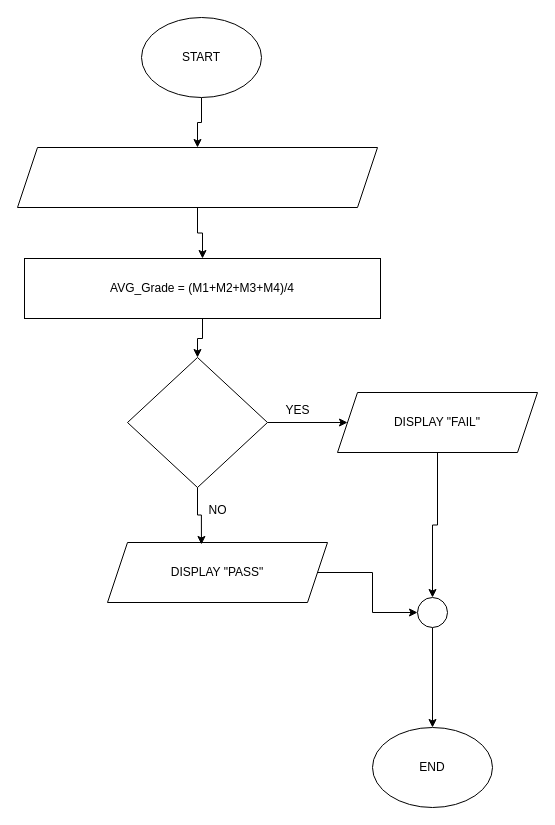
This 555x825 diagram has some shape labels left out. The shapes that lost their labels are listed below. From the top down, each one's box as (x1, y1, x2, y2) in pixels, then its label:
(16, 146, 378, 208): INPUT M1, M2, M3 ,M4
(126, 356, 268, 488): IF AVG_Grade < 60 ?
